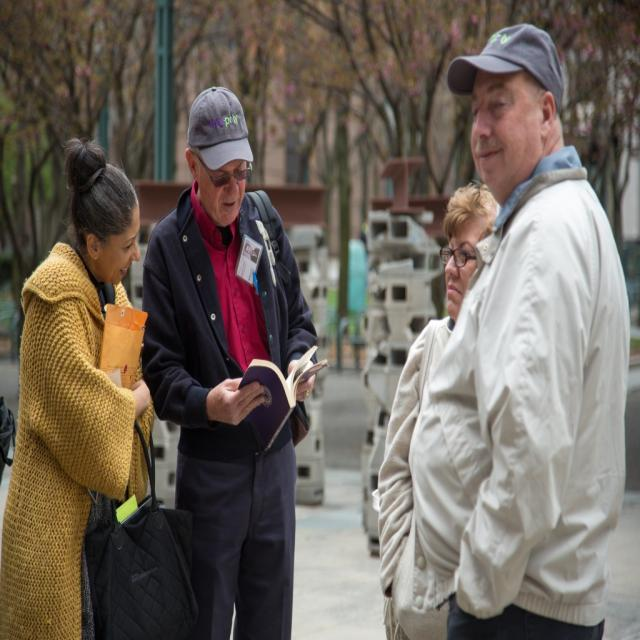body: (406, 14, 632, 639), (135, 80, 333, 639), (0, 132, 207, 639), (376, 179, 504, 640), (334, 214, 375, 352)
